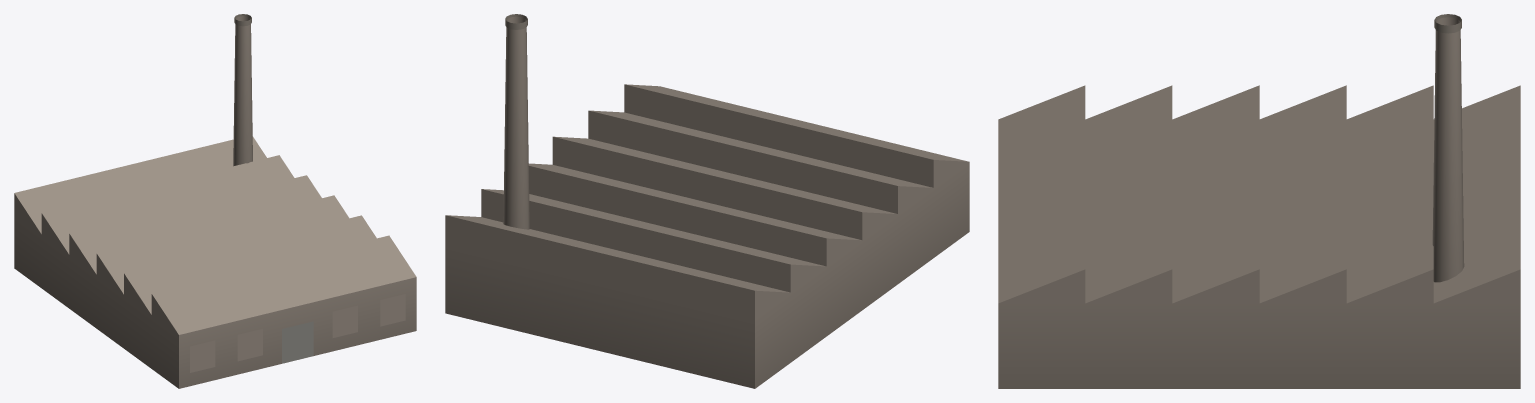
File: factory_a.glb
The picture shows the model from 3 angles, left to right: view 1: azimuth 30°, elevation 25°; view 2: azimuth 150°, elevation 25°; view 3: azimuth 270°, elevation 25°; orthographic projection. The views are drawn at different scales.
Parts seen in each view (by area): view 1: factory_a; view 2: factory_a; view 3: factory_a.
Boxes of the visible parts, x1,y1,x2,y2 form: factory_a: [14, 14, 416, 388]; factory_a: [445, 14, 969, 388]; factory_a: [998, 14, 1520, 388].
Bounding box in the file's own units: 30 × 26.2 × 36.01.
